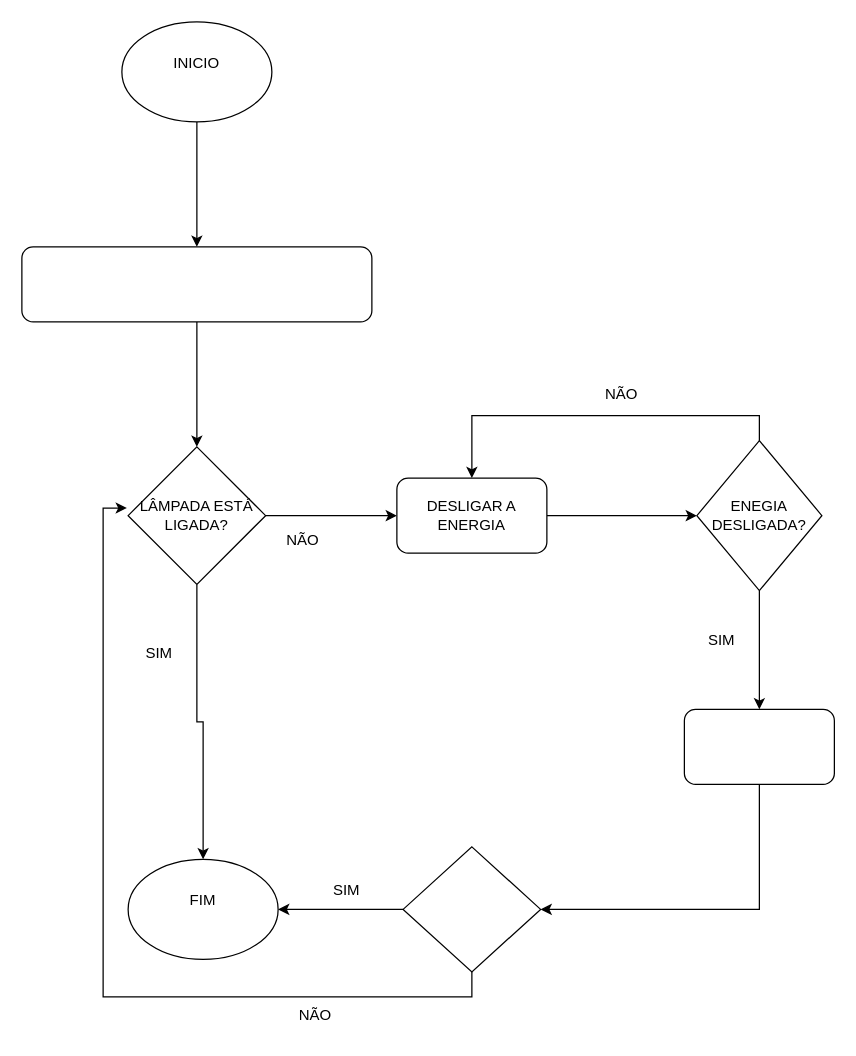
Image size: 856x1056. Some labels were removed from this diagram. Here are the shapes that lost their labels. From the top down, the box of each, then its label:
(21, 246, 372, 322): IDENTIFICAR A LÂMPADA QUEIMADA
(683, 708, 834, 784): INSTALAR LÂMAPADA NOVA E LIGAR A ENERGIA
(402, 846, 541, 972): PROBLEMA RESOLVIDO
